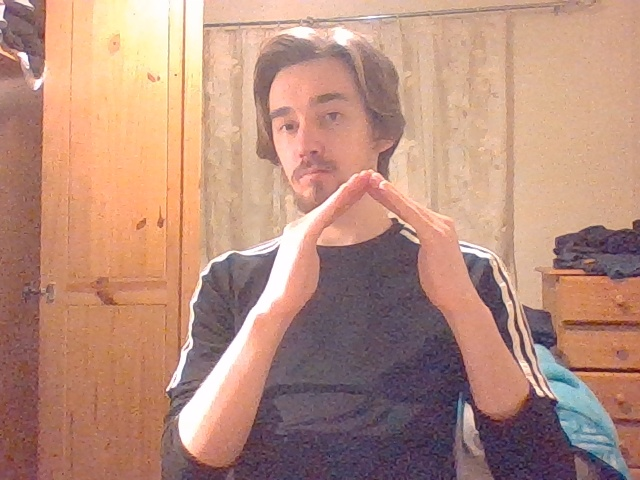home: (280, 169, 461, 265)
